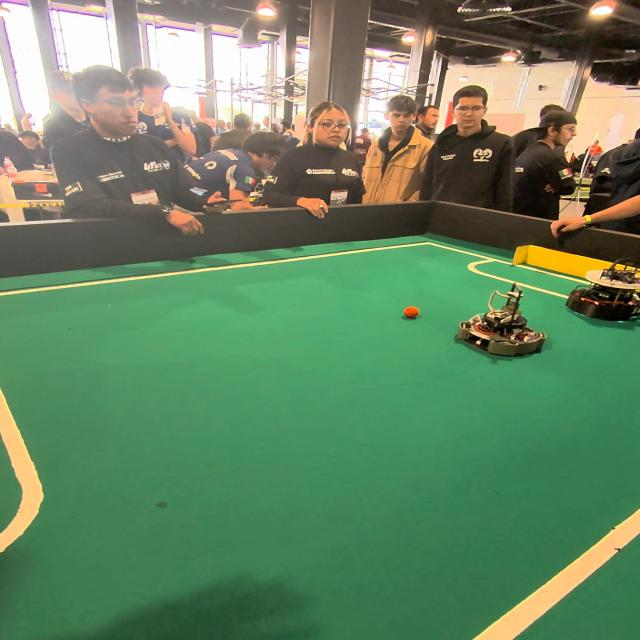Robot: (458, 280, 551, 364), (564, 255, 640, 331)
pelota: (401, 304, 425, 322)
